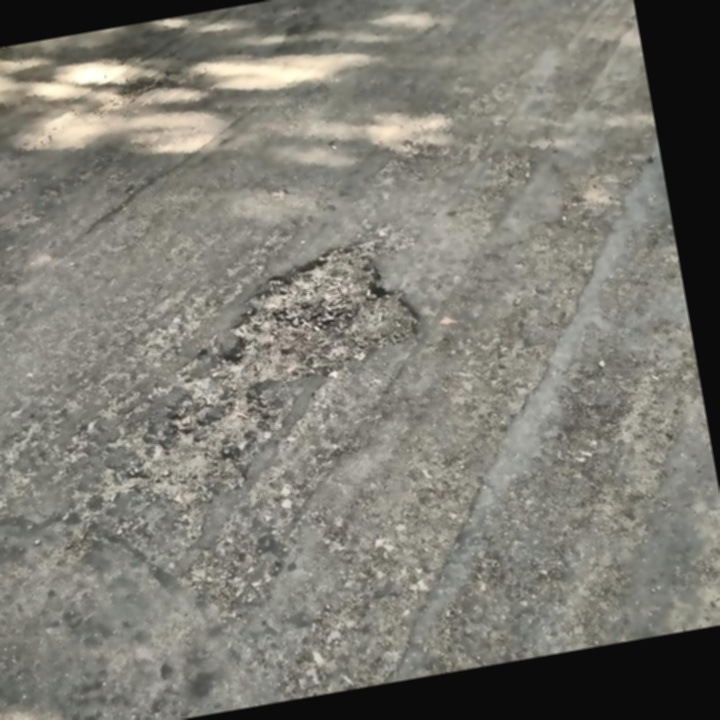pothole: (204, 233, 428, 405), (109, 393, 287, 513), (89, 72, 171, 112)
